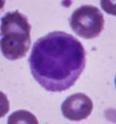M: (28, 30, 86, 94)
